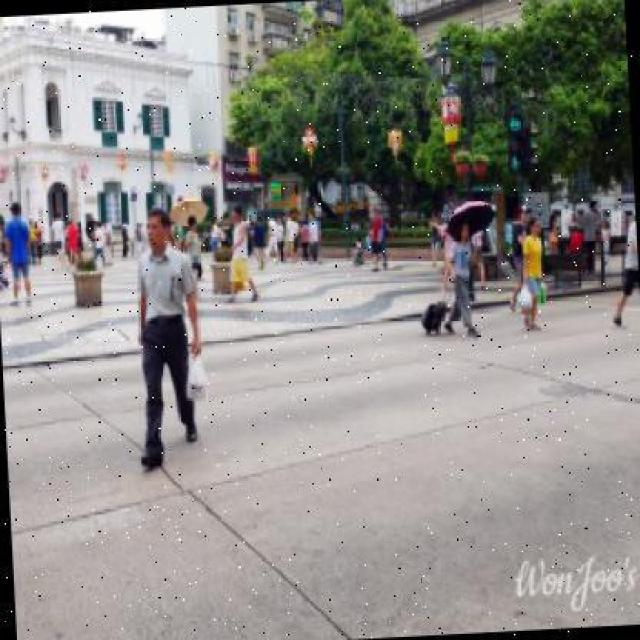Person: (130, 209, 204, 465), (445, 216, 480, 339), (0, 197, 38, 306), (516, 212, 546, 330), (226, 202, 260, 300)
